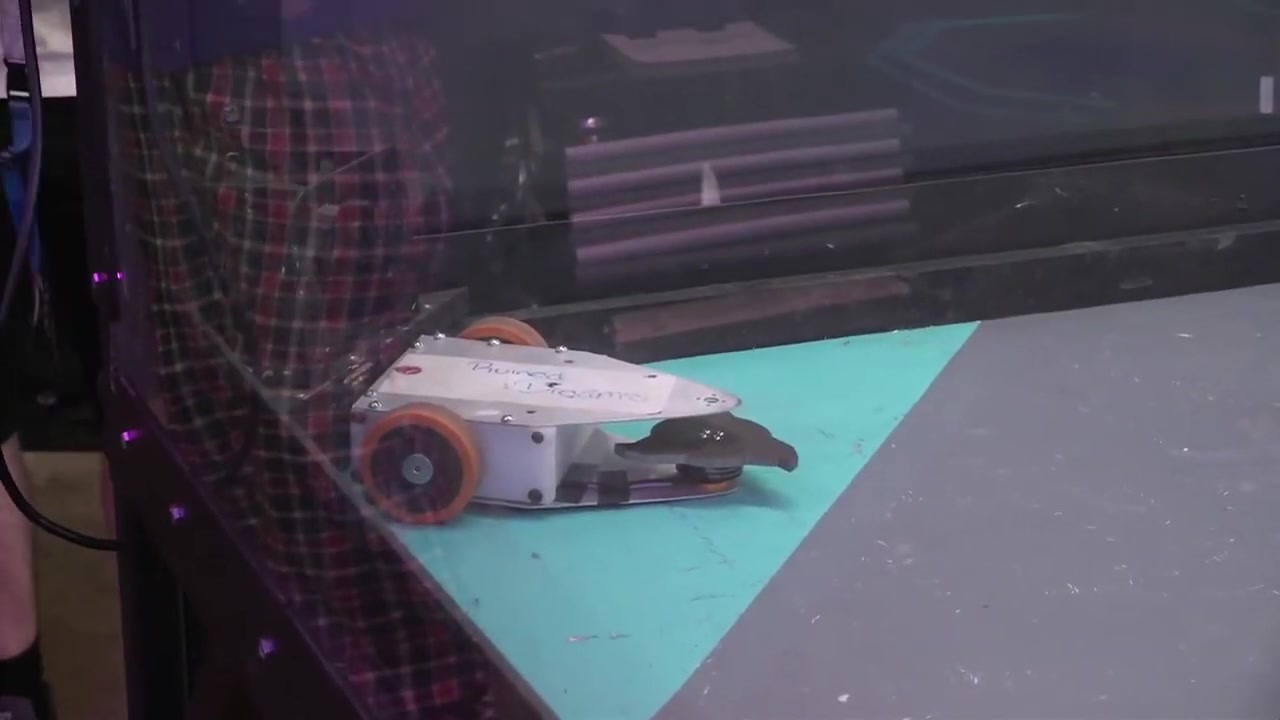combatbot: (346, 330, 740, 520)
